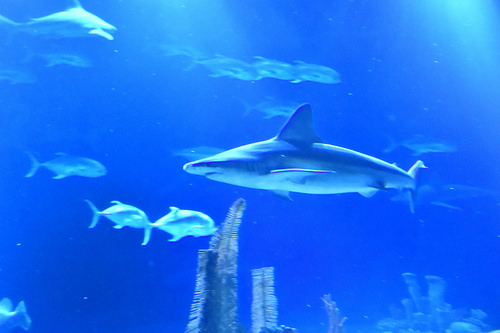shark: (167, 97, 443, 221)
